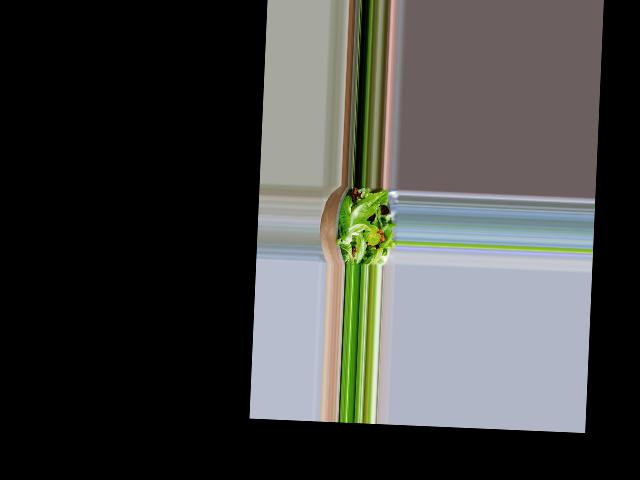lettuce: (336, 193, 393, 262)
